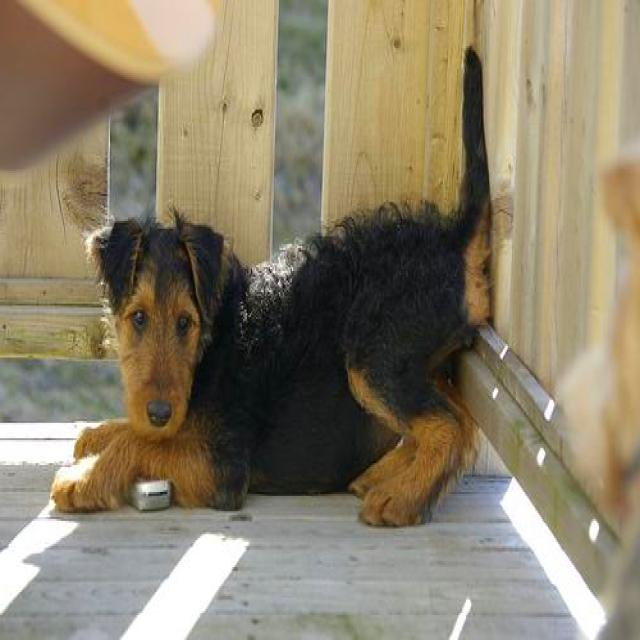airedale: (51, 42, 494, 532)
